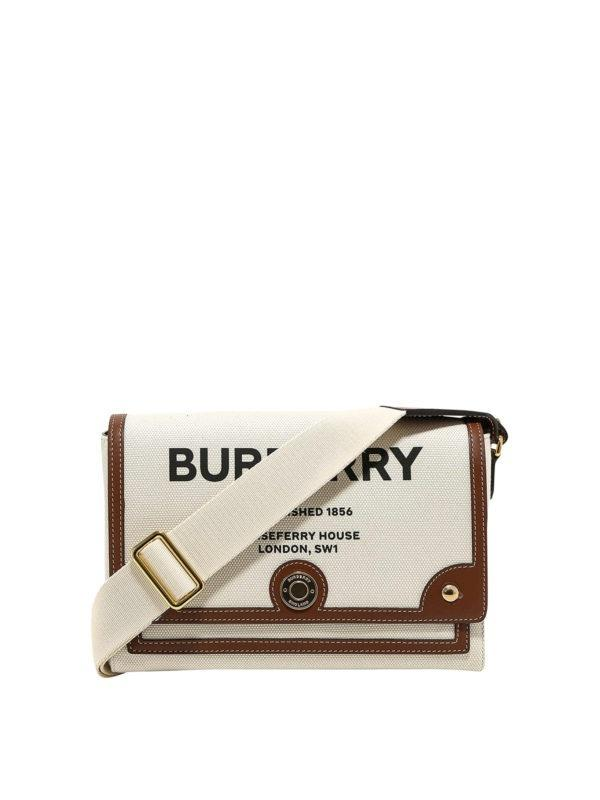BURBERRY: (169, 447, 423, 480)
